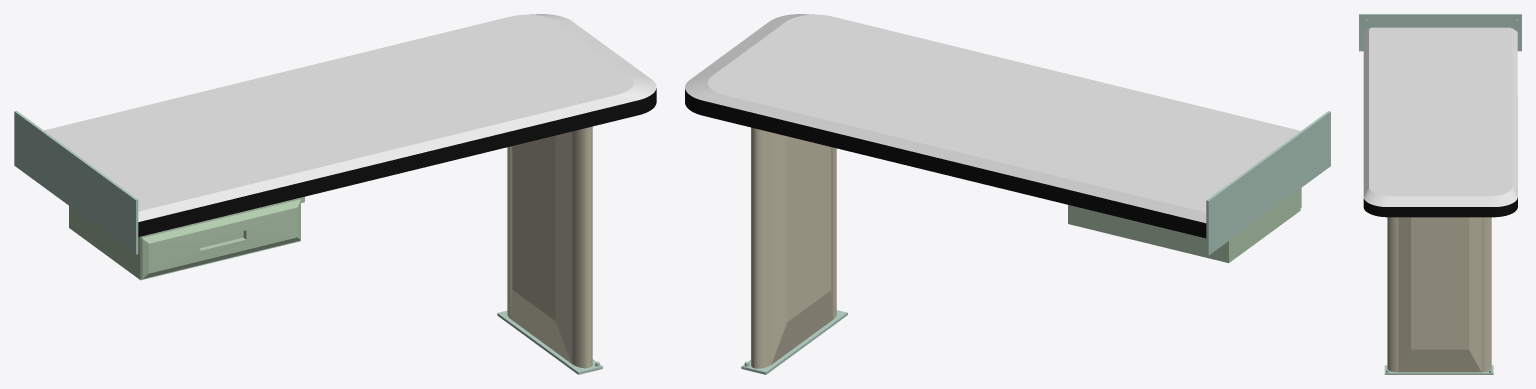
File: sf_sickbay_or_table.glb
3 renders of one model, left to right at view 1: azimuth 30°, elevation 25°; view 2: azimuth 150°, elevation 25°; view 3: azimuth 270°, elevation 25°, orthographic. The views are drawn at different scales.
Visible parts, largest first — view 1: Material.003, Material.004, Material.006, Material.002, Material.001; view 2: Material.003, Material.004, Material.002, Material.001, Material.006; view 3: Material.003, Material.004, Material.001, Material.002.
Part boxes in pixels (left/top/right/bottom): Material.003: left=44, top=14, right=656, bottom=221; Material.004: left=507, top=126, right=592, bottom=368; Material.006: left=69, top=196, right=304, bottom=280; Material.002: left=138, top=88, right=656, bottom=236; Material.001: left=14, top=111, right=602, bottom=374; Material.003: left=685, top=14, right=1300, bottom=223; Material.004: left=751, top=127, right=836, bottom=368; Material.002: left=685, top=89, right=1206, bottom=238; Material.001: left=741, top=111, right=1330, bottom=374; Material.006: left=1068, top=188, right=1301, bottom=263; Material.003: left=1363, top=27, right=1517, bottom=206; Material.004: left=1387, top=217, right=1491, bottom=372; Material.001: left=1359, top=14, right=1521, bottom=374; Material.002: left=1363, top=197, right=1517, bottom=217.
Size of the model in its own units: 1.4 by 0.7493 by 0.5479.
